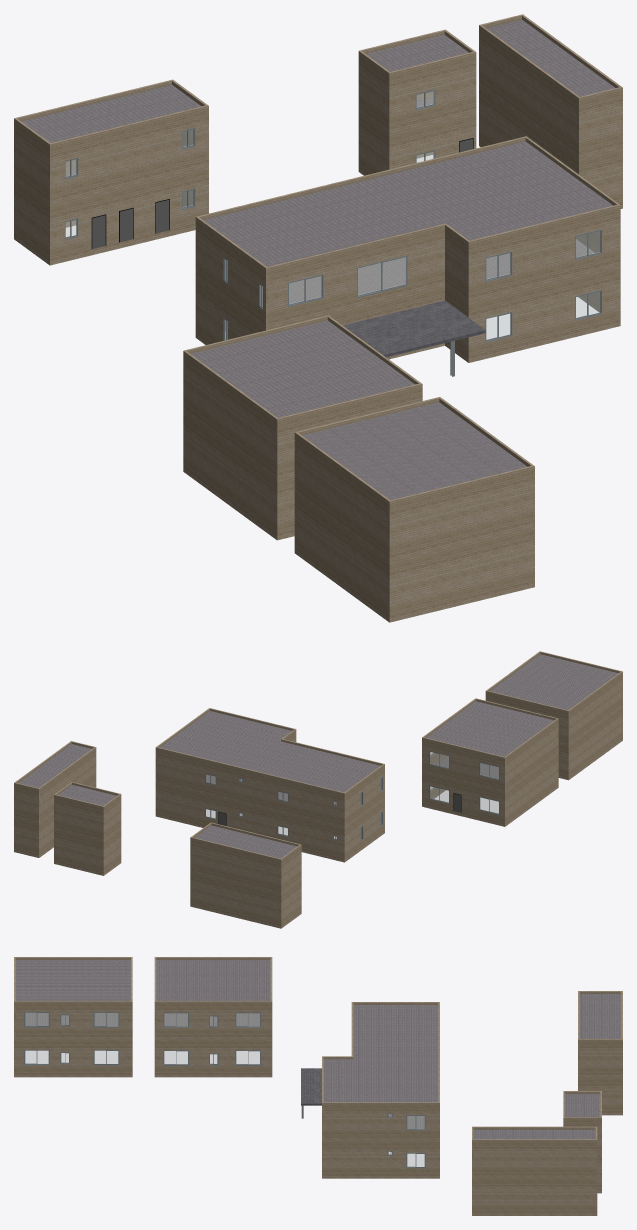
Rendered from Plan(REF)_levels(2)_window(REF)_wall(Wood - Flooring)_quoin(N)_cornice(N).fbx.
3 views of the same model, one above another, from view 1: azimuth 30°, elevation 25°; view 2: azimuth 150°, elevation 25°; view 3: azimuth 270°, elevation 25° (orthographic). The views are drawn at different scales.
Parts seen in each view (by area): view 1: Wood - Flooring, Shingle - Roofing - Designer Grade, Glass - Clear, Composite Roof, Metal - Finish - Aluminum, Color - Medium Gray; view 2: Wood - Flooring, Shingle - Roofing - Designer Grade, Glass - Clear, Metal - Finish - Aluminum; view 3: Wood - Flooring, Shingle - Roofing - Designer Grade, Glass - Clear, Metal - Finish - Aluminum, Composite Roof.
Part boxes in pixels (<box>): Wood - Flooring: <box>14,14,622,622</box>; Shingle - Roofing - Designer Grade: <box>21,19,615,500</box>; Glass - Clear: <box>66,91,599,339</box>; Composite Roof: <box>343,300,485,357</box>; Metal - Finish - Aluminum: <box>65,89,601,342</box>; Color - Medium Gray: <box>92,138,472,248</box>; Wood - Flooring: <box>14,651,622,928</box>; Shingle - Roofing - Designer Grade: <box>18,654,618,858</box>; Glass - Clear: <box>206,752,498,838</box>; Metal - Finish - Aluminum: <box>205,751,499,840</box>; Wood - Flooring: <box>14,957,622,1215</box>; Shingle - Roofing - Designer Grade: <box>15,960,621,1139</box>; Glass - Clear: <box>25,1013,424,1166</box>; Metal - Finish - Aluminum: <box>24,1012,425,1168</box>; Composite Roof: <box>301,1068,321,1105</box>.
Size of the model in its own units: 4148 by 5833 by 800.
Materials: 11 (3 with a texture image).
